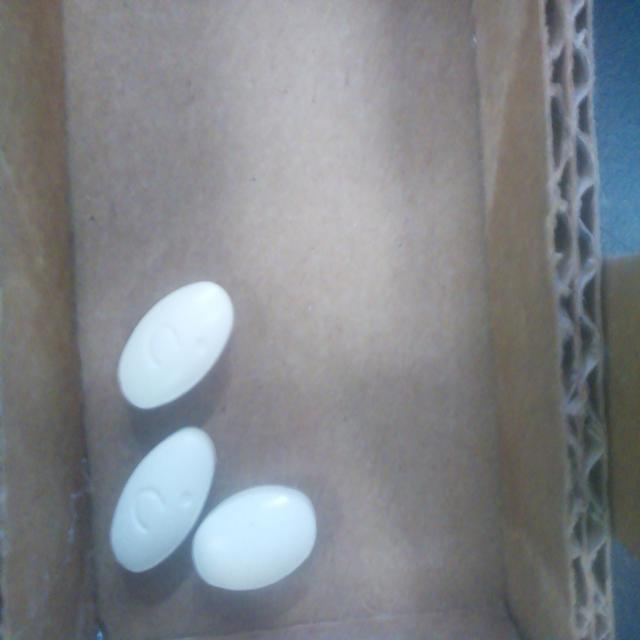pill: (110, 427, 215, 572), (118, 282, 233, 409), (192, 485, 317, 590)
